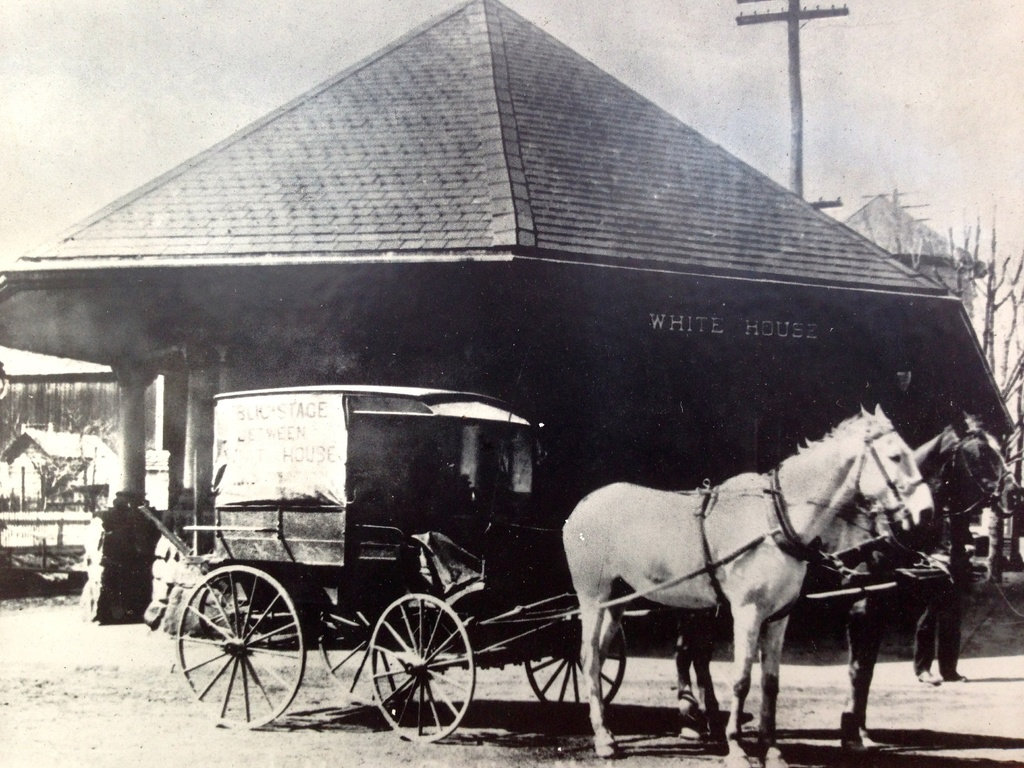Person: (913, 505, 975, 687)
